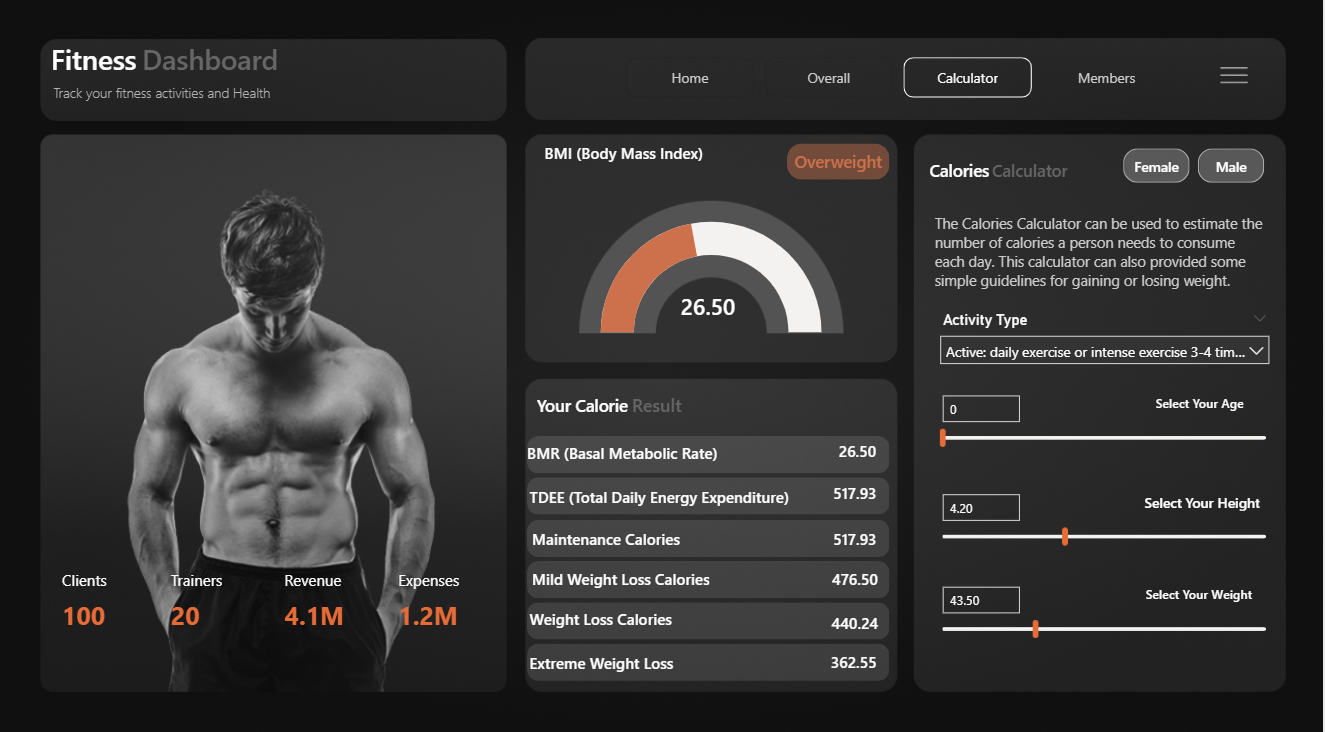

Layout of this report page (visuals, bound fields, positions):
{"tool":"powerbi","page":{"name":"Calculator","canvas":[1280,720],"ordinal":2},"visuals":[{"type":"shape","box":[511.5,464.5,349.9,36.2],"z":0},{"type":"shape","box":[511.5,545.3,349.9,36.2],"z":1000},{"type":"shape","box":[511.5,505.5,349.9,36.2],"z":2000},{"type":"shape","box":[511.5,585.1,349.9,36.2],"z":3000},{"type":"shape","box":[511.5,624.9,349.9,36.2],"z":4000},{"type":"slicer","fields":{"Values":["Age_Slider.Age_Slider"]},"box":[900,375.2,337.8,74.8],"z":5000},{"type":"slicer","fields":{"Values":["Height_Slider.Height_Slider"]},"box":[900,470.5,337.8,70],"z":6000},{"type":"slicer","fields":{"Values":["Weight_Slider.Weight_Slider"]},"box":[900,565.8,337.8,70],"z":7000},{"type":"slicer","fields":{"Values":["Slider_Activity.Category"]},"box":[900,299,338,74],"z":8000},{"type":"advancedSlicerVisual","fields":{"Values":["Slider_Gender.Caterogy"]},"box":[1082.2,142.4,147.2,43.4],"z":9000},{"type":"shape","box":[51.9,42.2,115.8,33.8],"z":10000},{"type":"shape","box":[139.9,42.2,190.6,33.8],"z":11000},{"type":"shape","box":[900,150.8,98.9,35],"z":12000},{"type":"shape","box":[960.3,150.8,98.9,35],"z":13000},{"type":"textbox","box":[900,205.1,329.4,117],"z":14000},{"type":"shape","box":[1118,375,105,35],"z":15000},{"type":"shape","box":[1109,560,123,35],"z":16000},{"type":"shape","box":[1107,470,128,35],"z":17000},{"type":"gauge","fields":{"Y":["_Measures.BMI"]},"box":[577.9,190.6,223.2,161.7],"z":18000},{"type":"card","fields":{"Values":["_Measures.BMI"]},"box":[639.4,281.1,94.1,41],"z":19000},{"type":"shape","box":[528.4,133.9,173.7,35],"z":20000},{"type":"shape","box":[733.5,142.4,127.9,35],"z":21000},{"type":"shape","box":[511.5,423.5,185.8,35],"z":22000},{"type":"card","fields":{"Values":["_Measures.BMI"]},"box":[790.2,424.7,80.8,35],"z":23000},{"type":"shape","box":[521,378,98.9,35],"z":24000},{"type":"shape","box":[612.9,376.4,98.9,35],"z":25000},{"type":"shape","box":[513.9,465.7,287.1,35],"z":26000},{"type":"card","fields":{"Values":["_Measures.TDEE"]},"box":[785.4,464.5,85.7,35],"z":27000},{"type":"shape","box":[511.5,424.7,349.9,36.2],"z":28000},{"type":"shape","box":[516.4,506.7,185.8,35],"z":29000},{"type":"card","fields":{"Values":["_Measures.Maintain Calories"]},"box":[792.6,509.1,71.2,35],"z":30000},{"type":"shape","box":[516.4,545.3,185.8,35],"z":31000},{"type":"card","fields":{"Values":["_Measures.Mild Weight Loss Calories"]},"box":[785.4,545.3,85.7,39.8],"z":32000},{"type":"shape","box":[513.9,583.9,185.8,35],"z":33000},{"type":"card","fields":{"Values":["_Measures.Weight Loss Calories"]},"box":[785.4,589.9,85.7,35],"z":34000},{"type":"shape","box":[514.2,626.1,185.8,35],"z":35000},{"type":"card","fields":{"Values":["_Measures.Extreme Weight Loss Calories"]},"box":[790.2,629.8,73.6,31.4],"z":36000},{"type":"cardVisual","fields":{"Data":["_Measures.Users_Count"]},"box":[45.8,544.1,121.9,79.6],"z":37000},{"type":"cardVisual","fields":{"Data":["Count(Users.Trainer Name)"]},"box":[150.8,544.1,109.8,79.6],"z":38000},{"type":"cardVisual","fields":{"Data":["_Measures.Revenue"]},"box":[260.6,544.1,109.8,79.6],"z":39000},{"type":"cardVisual","fields":{"Data":["_Measures.Expenses"]},"box":[370.4,538.1,117,91.7],"z":40000},{"type":"image","box":[1159.4,55.5,70,43.4],"z":41000},{"type":"shape","box":[54.3,77.2,247.3,31.4],"z":42000},{"type":"pageNavigator","box":[606.8,59.1,528.4,39.8],"z":43000}]}

Visuals, with their boxes in screenshot pixels (x1, y1, x2, y2), scaled from the page's 1280x720 canvas onto the 1325x732 screenshot:
shape: {"x1": 529, "y1": 472, "x2": 892, "y2": 509}
shape: {"x1": 529, "y1": 554, "x2": 892, "y2": 591}
shape: {"x1": 529, "y1": 514, "x2": 892, "y2": 551}
shape: {"x1": 529, "y1": 595, "x2": 892, "y2": 632}
shape: {"x1": 529, "y1": 635, "x2": 892, "y2": 672}
slicer - Age_Slider.Age_Slider: {"x1": 932, "y1": 381, "x2": 1281, "y2": 458}
slicer - Height_Slider.Height_Slider: {"x1": 932, "y1": 478, "x2": 1281, "y2": 550}
slicer - Weight_Slider.Weight_Slider: {"x1": 932, "y1": 575, "x2": 1281, "y2": 646}
slicer - Slider_Activity.Category: {"x1": 932, "y1": 304, "x2": 1282, "y2": 379}
advancedSlicerVisual - Slider_Gender.Caterogy: {"x1": 1120, "y1": 145, "x2": 1273, "y2": 189}
shape: {"x1": 54, "y1": 43, "x2": 174, "y2": 77}
shape: {"x1": 145, "y1": 43, "x2": 342, "y2": 77}
shape: {"x1": 932, "y1": 153, "x2": 1034, "y2": 189}
shape: {"x1": 994, "y1": 153, "x2": 1096, "y2": 189}
textbox: {"x1": 932, "y1": 209, "x2": 1273, "y2": 327}
shape: {"x1": 1157, "y1": 381, "x2": 1266, "y2": 417}
shape: {"x1": 1148, "y1": 569, "x2": 1275, "y2": 605}
shape: {"x1": 1146, "y1": 478, "x2": 1278, "y2": 513}
gauge - _Measures.BMI: {"x1": 598, "y1": 194, "x2": 829, "y2": 358}
card - _Measures.BMI: {"x1": 662, "y1": 286, "x2": 759, "y2": 327}
shape: {"x1": 547, "y1": 136, "x2": 727, "y2": 172}
shape: {"x1": 759, "y1": 145, "x2": 892, "y2": 180}
shape: {"x1": 529, "y1": 431, "x2": 722, "y2": 466}
card - _Measures.BMI: {"x1": 818, "y1": 432, "x2": 902, "y2": 467}
shape: {"x1": 539, "y1": 384, "x2": 642, "y2": 420}
shape: {"x1": 634, "y1": 383, "x2": 737, "y2": 418}
shape: {"x1": 532, "y1": 473, "x2": 829, "y2": 509}
card - _Measures.TDEE: {"x1": 813, "y1": 472, "x2": 902, "y2": 508}
shape: {"x1": 529, "y1": 432, "x2": 892, "y2": 469}
shape: {"x1": 535, "y1": 515, "x2": 727, "y2": 551}
card - _Measures.Maintain Calories: {"x1": 820, "y1": 518, "x2": 894, "y2": 553}
shape: {"x1": 535, "y1": 554, "x2": 727, "y2": 590}
card - _Measures.Mild Weight Loss Calories: {"x1": 813, "y1": 554, "x2": 902, "y2": 595}
shape: {"x1": 532, "y1": 594, "x2": 724, "y2": 629}
card - _Measures.Weight Loss Calories: {"x1": 813, "y1": 600, "x2": 902, "y2": 635}
shape: {"x1": 532, "y1": 637, "x2": 725, "y2": 672}
card - _Measures.Extreme Weight Loss Calories: {"x1": 818, "y1": 640, "x2": 894, "y2": 672}
cardVisual - _Measures.Users_Count: {"x1": 47, "y1": 553, "x2": 174, "y2": 634}
cardVisual - Count(Users.Trainer Name): {"x1": 156, "y1": 553, "x2": 270, "y2": 634}
cardVisual - _Measures.Revenue: {"x1": 270, "y1": 553, "x2": 383, "y2": 634}
cardVisual - _Measures.Expenses: {"x1": 383, "y1": 547, "x2": 505, "y2": 640}
image: {"x1": 1200, "y1": 56, "x2": 1273, "y2": 101}
shape: {"x1": 56, "y1": 78, "x2": 312, "y2": 110}
pageNavigator: {"x1": 628, "y1": 60, "x2": 1175, "y2": 101}
